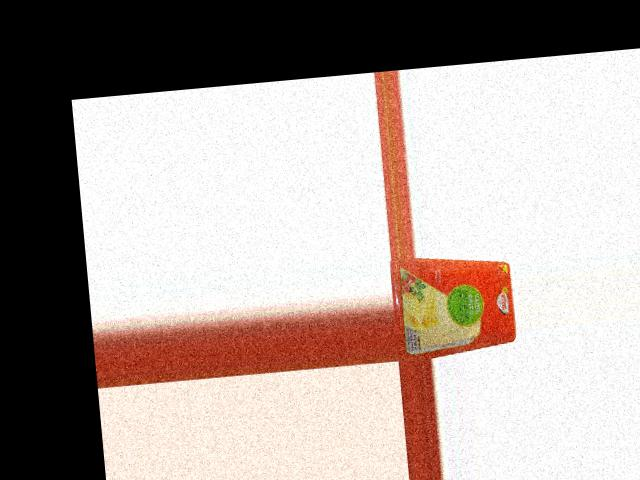cheese: (388, 248, 516, 359)
